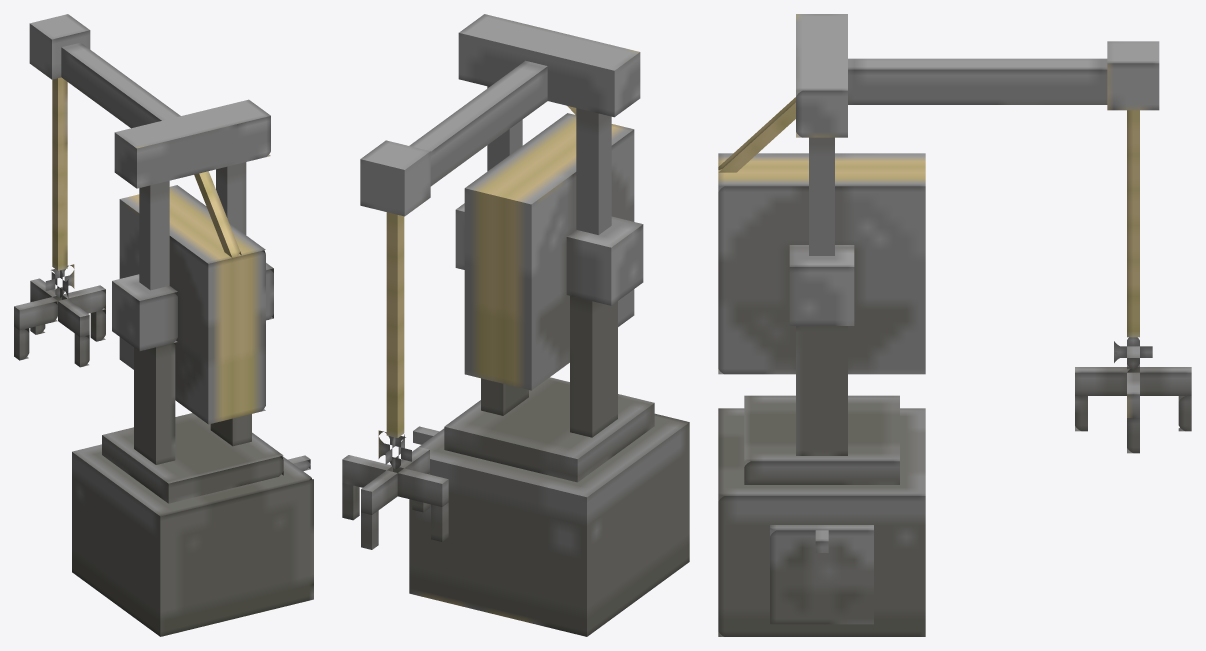
Rendered from SalvageHook.fbx.
The picture shows the model from 3 angles, left to right: view 1: azimuth 30°, elevation 25°; view 2: azimuth 150°, elevation 25°; view 3: azimuth 270°, elevation 25°; orthographic projection. The views are drawn at different scales.
Visible parts, largest first — view 1: base, wheel, stand_4, base_1, stand_1, stand_5, rod, stand_2, rope, stand_6, stand_3, rope_1 (+9 smaller); view 2: base, wheel, base_1, stand_4, stand_5, stand_1, rod, stand_6, stand_2, rope, claw_1, stand (+9 smaller); view 3: wheel, base, stand_5, base_1, wheel_1, stand, stand_4, rod_1, stand_6, stand_3, rope, rope_1 (+2 smaller).
Boxes of the visible parts, x1,y1,x2,y2 form: base: (72, 444, 313, 636); wheel: (119, 185, 265, 424); stand_4: (114, 99, 270, 188); base_1: (102, 413, 283, 503); stand_1: (134, 343, 175, 464); stand_5: (61, 42, 180, 128); rod: (112, 274, 177, 351); stand_2: (139, 181, 169, 290); rope: (52, 77, 67, 270); stand_6: (29, 14, 90, 79); stand_3: (216, 162, 246, 234); rope_1: (194, 171, 241, 257); base: (409, 413, 689, 636); wheel: (464, 113, 634, 390); base_1: (444, 377, 654, 482); stand_4: (458, 14, 640, 117); stand_5: (409, 60, 547, 186); stand_1: (570, 296, 617, 437); rod: (566, 216, 643, 305); stand_6: (360, 140, 430, 216); stand_2: (576, 108, 611, 234); rope: (386, 212, 404, 437); claw_1: (397, 468, 448, 506); stand: (481, 378, 528, 415); wheel: (718, 153, 925, 374); base: (718, 408, 925, 636); stand_5: (848, 58, 1107, 104); base_1: (744, 395, 899, 484); wheel_1: (770, 525, 873, 624); stand: (796, 326, 847, 455); stand_4: (796, 14, 847, 137); rod_1: (789, 245, 854, 325); stand_6: (1107, 41, 1159, 110); stand_3: (809, 137, 834, 255); rope: (1127, 110, 1139, 337); rope_1: (718, 97, 795, 172).
Size of the model in its own units: 62.5 by 144 by 114.
1 material, 1 textured.
